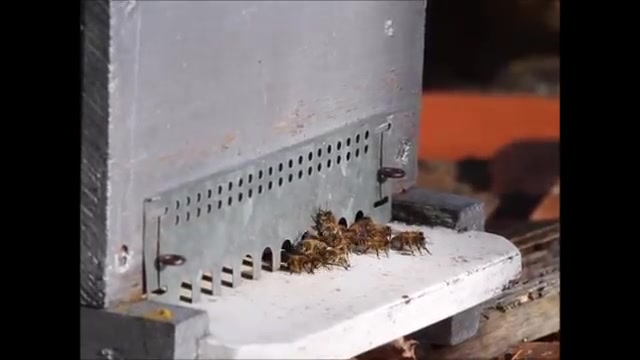bee: (301, 239, 353, 267), (355, 219, 384, 258), (389, 234, 427, 253), (288, 254, 320, 276), (319, 223, 350, 240)
